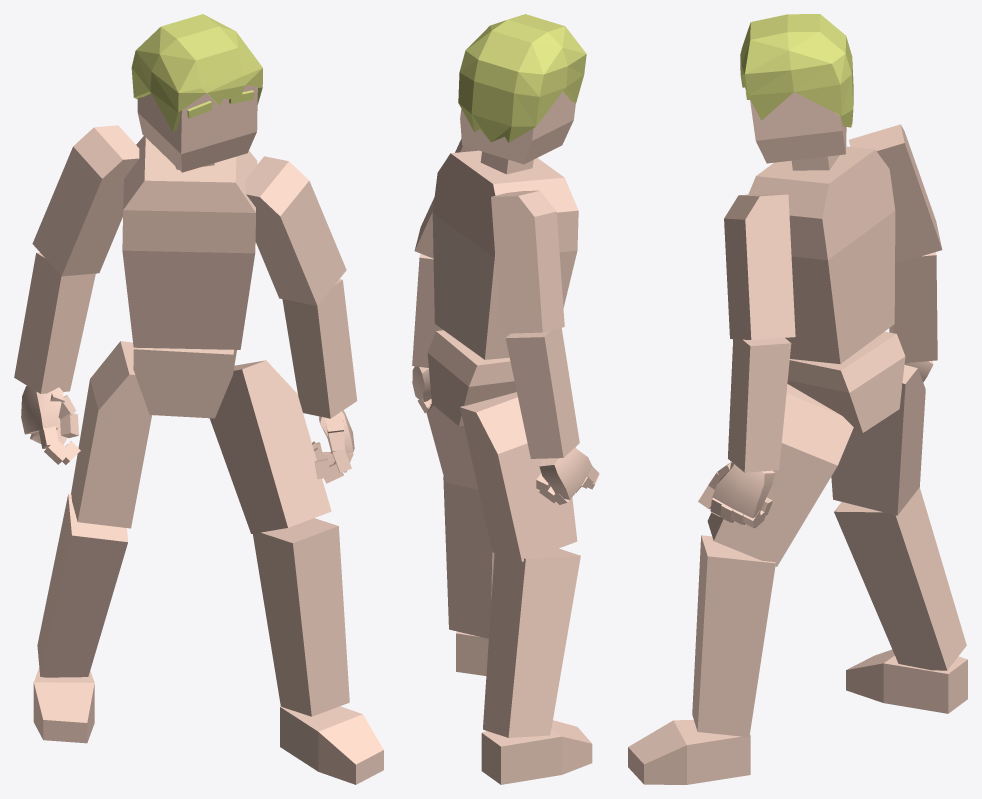
Rendered from standing.glb.
3 views of the same model, side by side, from view 1: azimuth 30°, elevation 25°; view 2: azimuth 150°, elevation 25°; view 3: azimuth 270°, elevation 25° (orthographic). The views are drawn at different scales.
Parts seen in each view (by area): view 1: standing; view 2: standing; view 3: standing.
Part boxes in pixels (x1=…): standing: x1=14, y1=14, x2=383, y2=784; standing: x1=412, y1=14, x2=599, y2=784; standing: x1=628, y1=14, x2=967, y2=784.
Size of the model in its own units: 0.582 by 1.58 by 0.6891.
